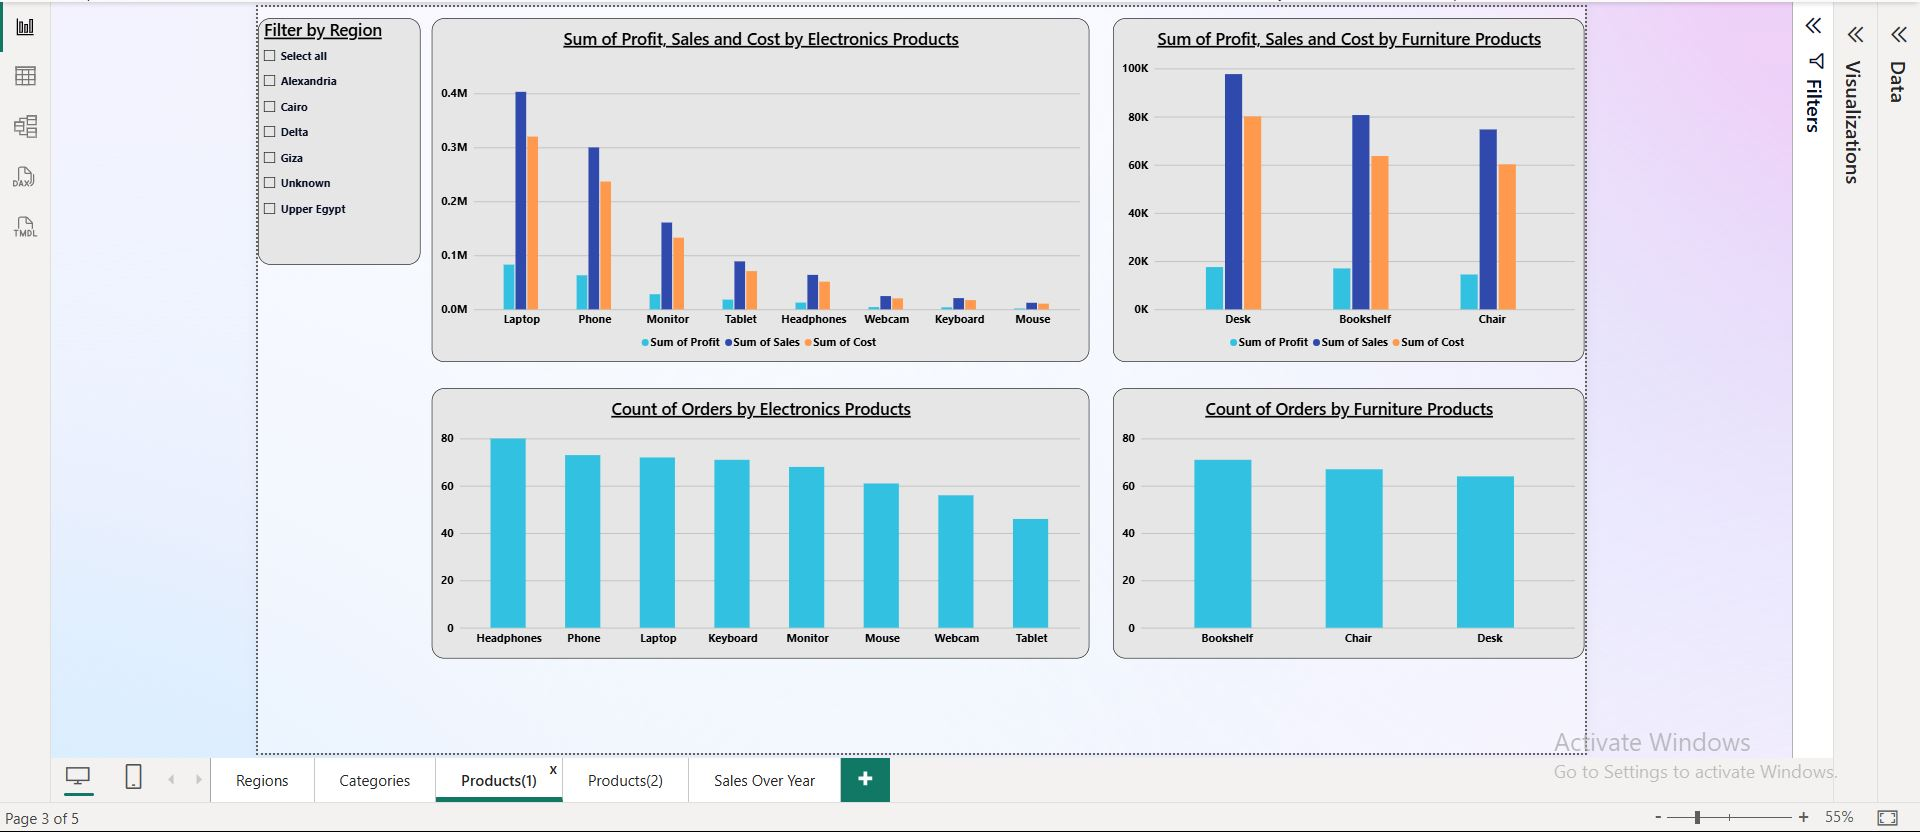

This screenshot's page, from the dashboard's own definition file:
{"tool":"powerbi","page":{"name":"Products(1)","canvas":[1920,1080],"ordinal":2},"visuals":[{"type":"clusteredColumnChart","title":"Sum of Profit, Sales and Cost by Electronics Products","fields":{"Category":["Sheet1.Product"],"Y":["Sum(Sheet1.Profit)","Sum(Sheet1.Sales)","Sum(Sheet1.Cost)"]},"box":[251.5,16.3,951.9,497.7],"z":0},{"type":"clusteredColumnChart","title":"Sum of Profit, Sales and Cost by Furniture Products","fields":{"Category":["Sheet1.Product"],"Y":["Sum(Sheet1.Profit)","Sum(Sheet1.Sales)","Sum(Sheet1.Cost)"]},"box":[1237.8,16.3,682.2,497.7],"z":1000},{"type":"slicer","fields":{"Values":["Sheet1.Region"]},"box":[0,16.3,235.3,356.5],"z":4000},{"type":"clusteredColumnChart","title":"Count of Orders by Electronics Products","fields":{"Category":["Sheet1.Product"],"Y":["CountNonNull(Sheet1.Product)"]},"box":[251.5,551.9,951.9,390.9],"z":4001},{"type":"clusteredColumnChart","title":"Count of Orders by Furniture Products","fields":{"Category":["Sheet1.Product"],"Y":["CountNonNull(Sheet1.Product)"]},"box":[1237.8,551.9,682.2,390.9],"z":4002}]}

Visuals, with their boxes on the page's 1920x1080 design canvas (x1, y1, x2, y2). These are canvas units, not pixel positions in the 1920x832 screenshot, which may show the page scaled, cropped or inside an application window:
"Sum of Profit, Sales and Cost by Electronics Products" clusteredColumnChart: BBox(252, 16, 1203, 514)
"Sum of Profit, Sales and Cost by Furniture Products" clusteredColumnChart: BBox(1238, 16, 1920, 514)
slicer - Sheet1.Region: BBox(0, 16, 235, 373)
"Count of Orders by Electronics Products" clusteredColumnChart: BBox(252, 552, 1203, 943)
"Count of Orders by Furniture Products" clusteredColumnChart: BBox(1238, 552, 1920, 943)
